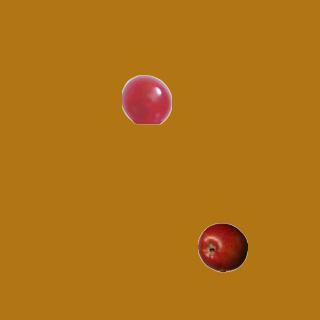Apple Braeburn: (197, 222, 247, 272)
Redcurrant: (121, 74, 171, 124)
